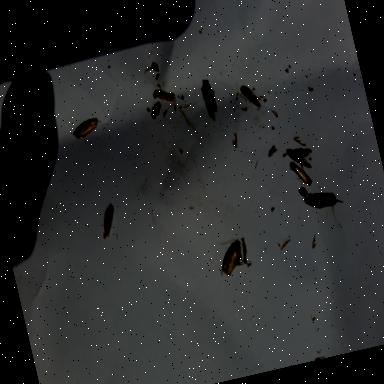pbw: (214, 238, 248, 281), (304, 187, 344, 213), (199, 78, 222, 122), (96, 204, 120, 240), (70, 116, 104, 140), (286, 145, 312, 174), (291, 160, 314, 191), (240, 82, 264, 111), (154, 86, 177, 107)
